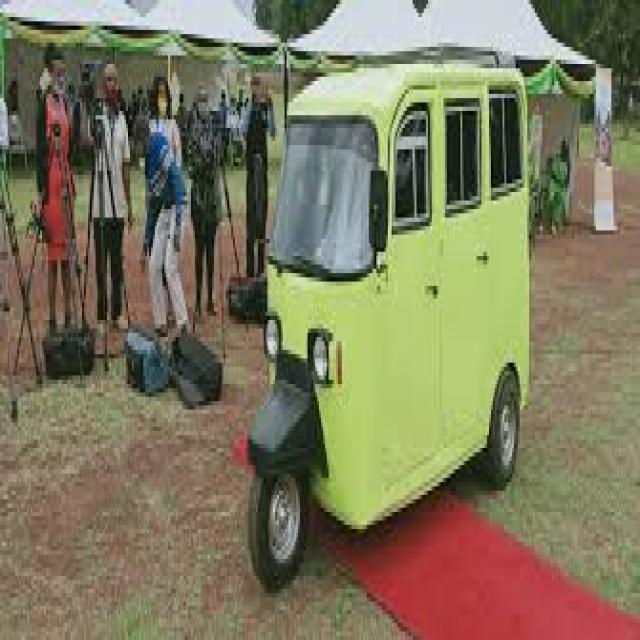tuktuk: (235, 10, 554, 608)
